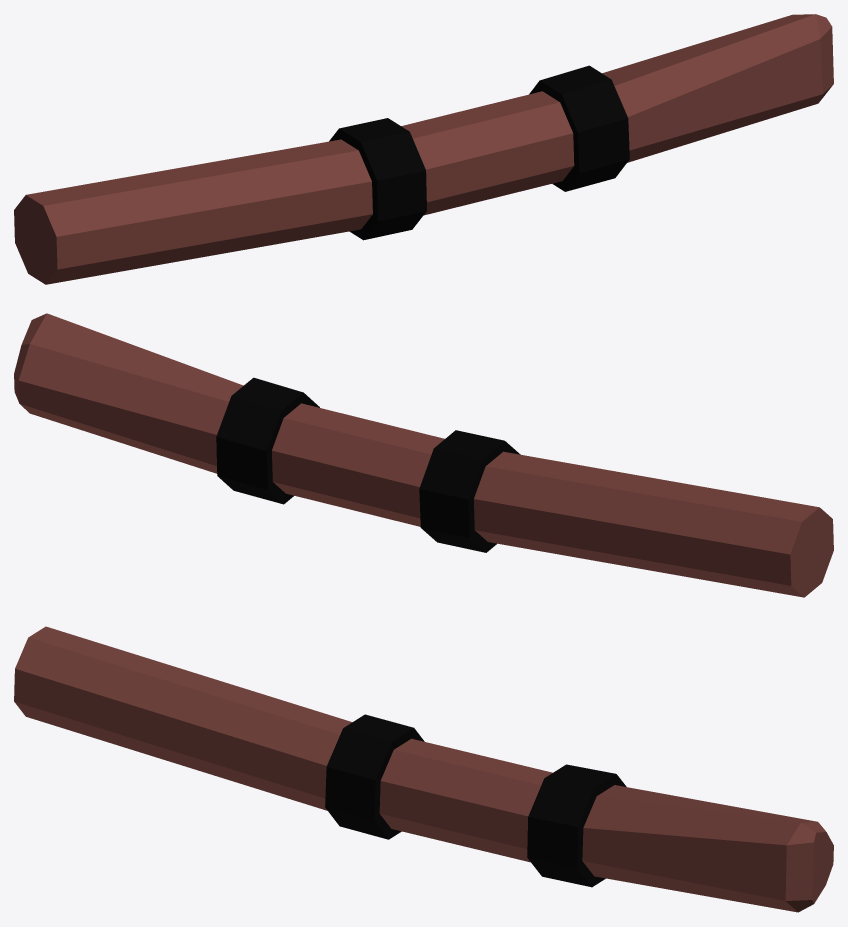
Rendered from Signboard Pole 02.fbx.
The picture shows the model from 3 angles, top to bottom: view 1: azimuth 30°, elevation 25°; view 2: azimuth 150°, elevation 25°; view 3: azimuth 330°, elevation 25°; orthographic projection.
Parts seen in each view (by area): view 1: Signboard Pole 02; view 2: Signboard Pole 02; view 3: Signboard Pole 02.
Boxes of the visible parts, box(x1,y1,x2,y2) form: Signboard Pole 02: box(14, 14, 833, 284); Signboard Pole 02: box(14, 313, 833, 597); Signboard Pole 02: box(14, 626, 833, 912).
Size of the model in its own units: 210 by 29.56 by 25.27.
